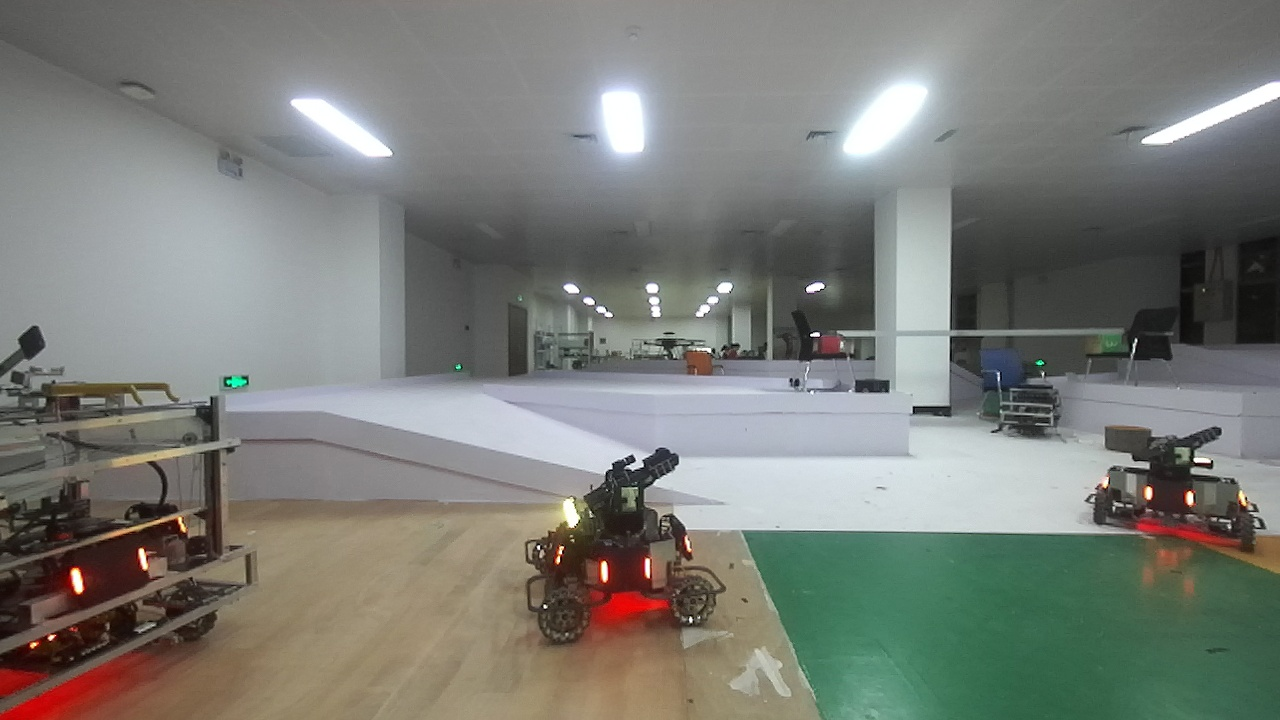car: (1, 323, 244, 689), (515, 450, 744, 645), (1070, 419, 1280, 552)
